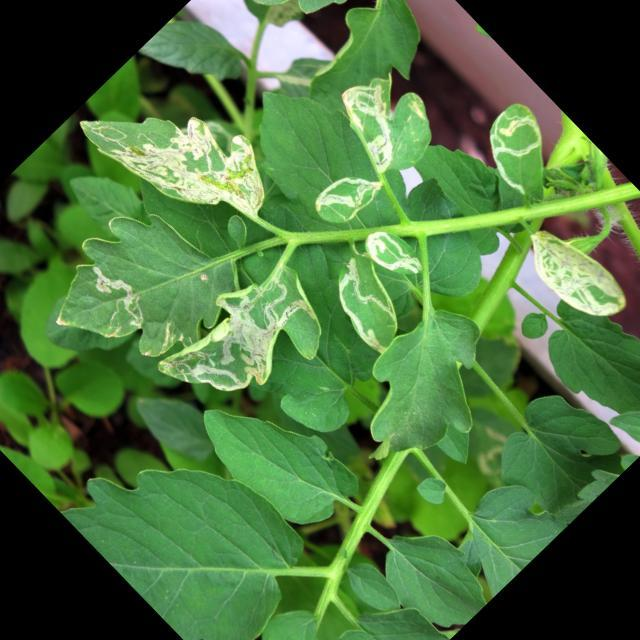Tomato healthy leaf: (59, 401, 335, 640), (331, 288, 529, 485), (184, 364, 368, 550), (520, 279, 640, 459), (357, 506, 498, 640), (434, 464, 566, 596), (317, 579, 449, 640)
Tomato target spot leaf: (30, 170, 264, 402), (76, 44, 300, 270), (146, 243, 349, 444), (264, 54, 462, 252), (290, 207, 452, 369), (450, 82, 588, 220), (514, 215, 634, 336), (207, 0, 387, 57)
